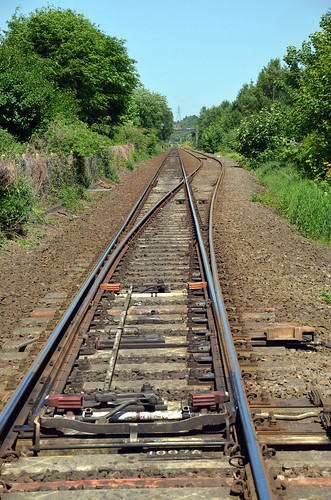sky: (105, 1, 327, 104)
train track: (25, 147, 324, 479)
tree: (1, 1, 143, 142), (244, 43, 331, 175), (119, 84, 175, 143)
